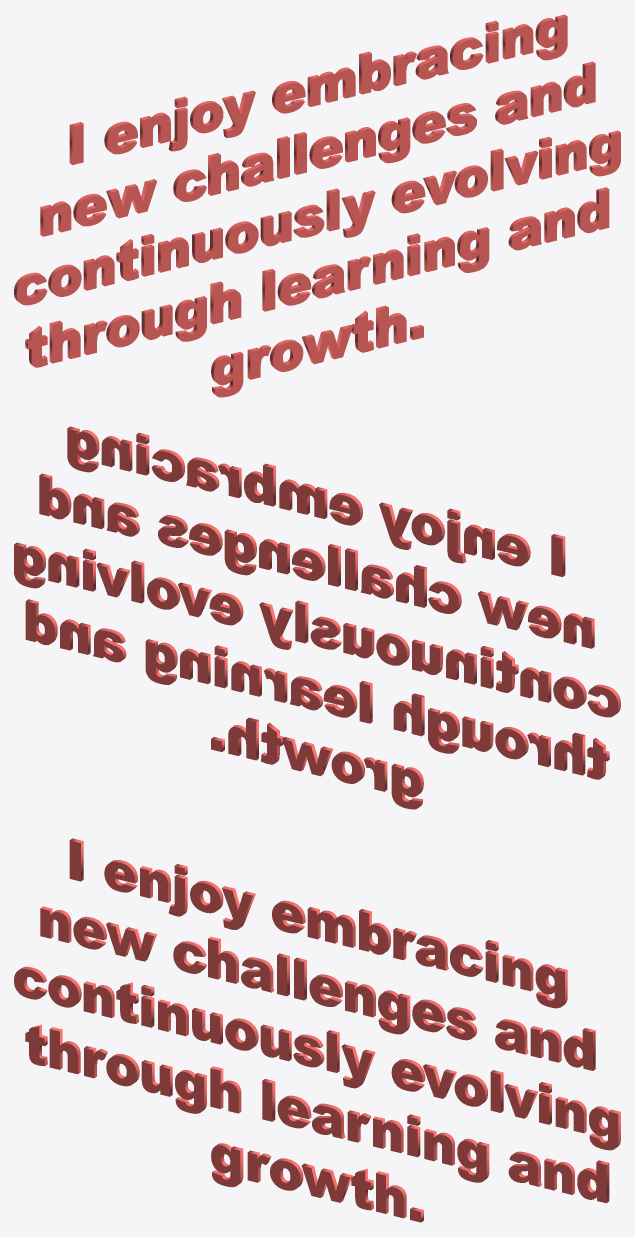
Rendered from desc-n1challenge.glb.
3 renders of one model, top to bottom at view 1: azimuth 30°, elevation 25°; view 2: azimuth 150°, elevation 25°; view 3: azimuth 330°, elevation 25°, orthographic.
Parts seen in each view (by area): view 1: challenge; view 2: challenge; view 3: challenge.
Part boxes in pixels (bbox=[...]): challenge: bbox=[14, 14, 620, 397]; challenge: bbox=[14, 426, 620, 809]; challenge: bbox=[14, 838, 620, 1222].
Bounding box in the file's own units: 0.1261 × 0.0614 × 0.001.
